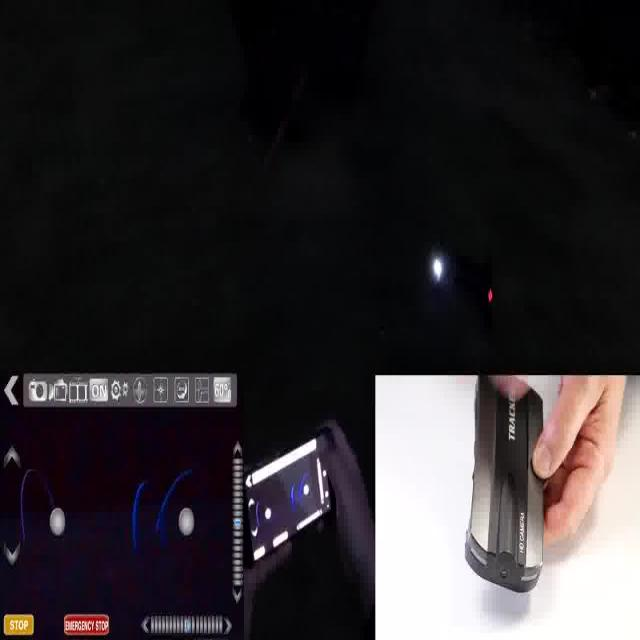drones: (404, 198, 520, 363)
